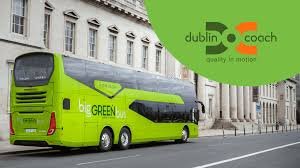bus: (10, 50, 209, 151)
